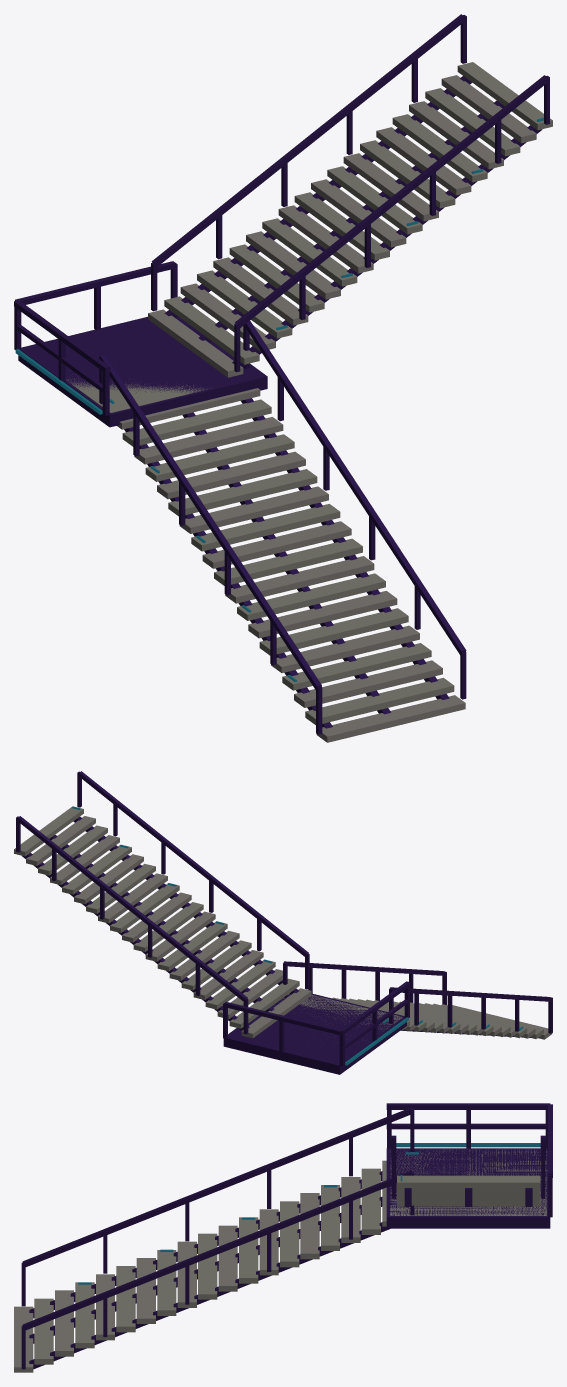
Rendered from env_base99_stair_l_z7_visual_top3d_v001.glb.
3 views of the same model, one above another, from view 1: azimuth 30°, elevation 25°; view 2: azimuth 150°, elevation 25°; view 3: azimuth 270°, elevation 25° (orthographic). The views are drawn at different scales.
Visible parts, largest first — view 1: L型楼梯_主体_金属哑光反光, L型楼梯_UI灯光_柔和自发光; view 2: L型楼梯_主体_金属哑光反光, L型楼梯_UI灯光_柔和自发光; view 3: L型楼梯_主体_金属哑光反光, L型楼梯_UI灯光_柔和自发光.
Part boxes in pixels (<box>): L型楼梯_主体_金属哑光反光: <box>14,14,552,742</box>; L型楼梯_UI灯光_柔和自发光: <box>15,118,543,682</box>; L型楼梯_主体_金属哑光反光: <box>14,771,552,1074</box>; L型楼梯_UI灯光_柔和自发光: <box>72,806,523,1065</box>; L型楼梯_主体_金属哑光反光: <box>14,1103,552,1372</box>; L型楼梯_UI灯光_柔和自发光: <box>78,1143,540,1284</box>.
Bounding box in the file's own units: 9.22 × 7.94 × 10.54.
Materials: 3 (3 with a texture image).
